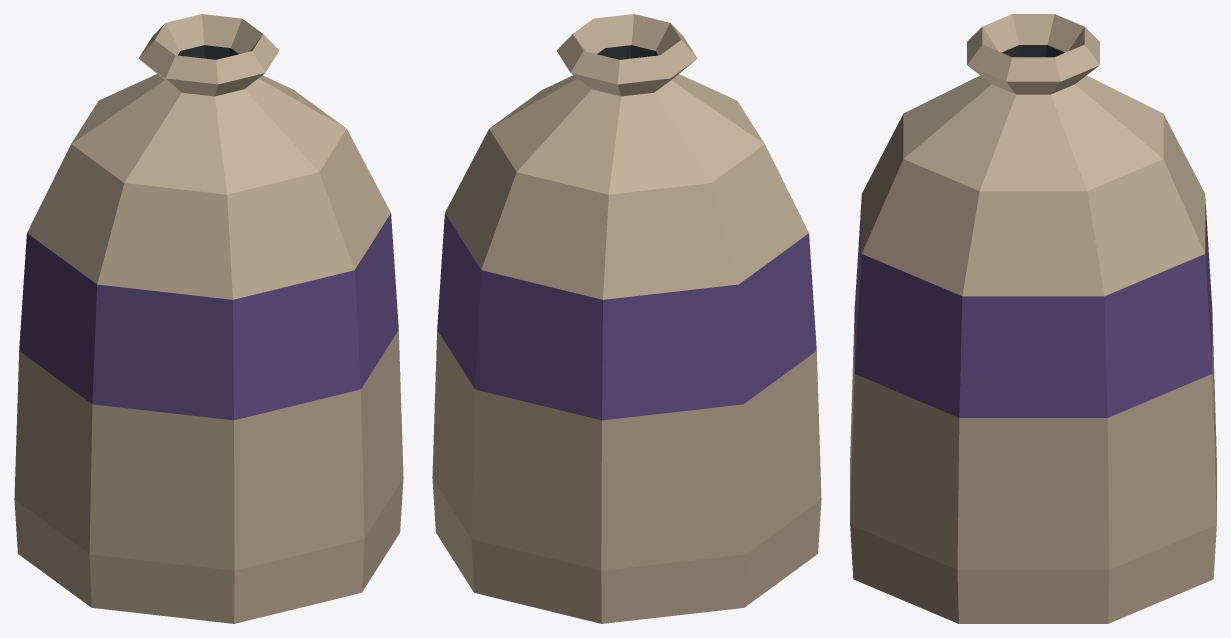
File: SM_Prop_Vase_06.fbx
3 views of the same model, side by side, from view 1: azimuth 30°, elevation 25°; view 2: azimuth 150°, elevation 25°; view 3: azimuth 270°, elevation 25° (orthographic).
Parts seen in each view (by area): view 1: SM_Prop_Vase_06; view 2: SM_Prop_Vase_06; view 3: SM_Prop_Vase_06.
Boxes of the visible parts, box(x1,y1,x2,y2) form: SM_Prop_Vase_06: box(14, 14, 403, 623); SM_Prop_Vase_06: box(432, 14, 821, 623); SM_Prop_Vase_06: box(850, 14, 1216, 623).
Bounding box in the file's own units: 44.75 × 68.94 × 44.75.
